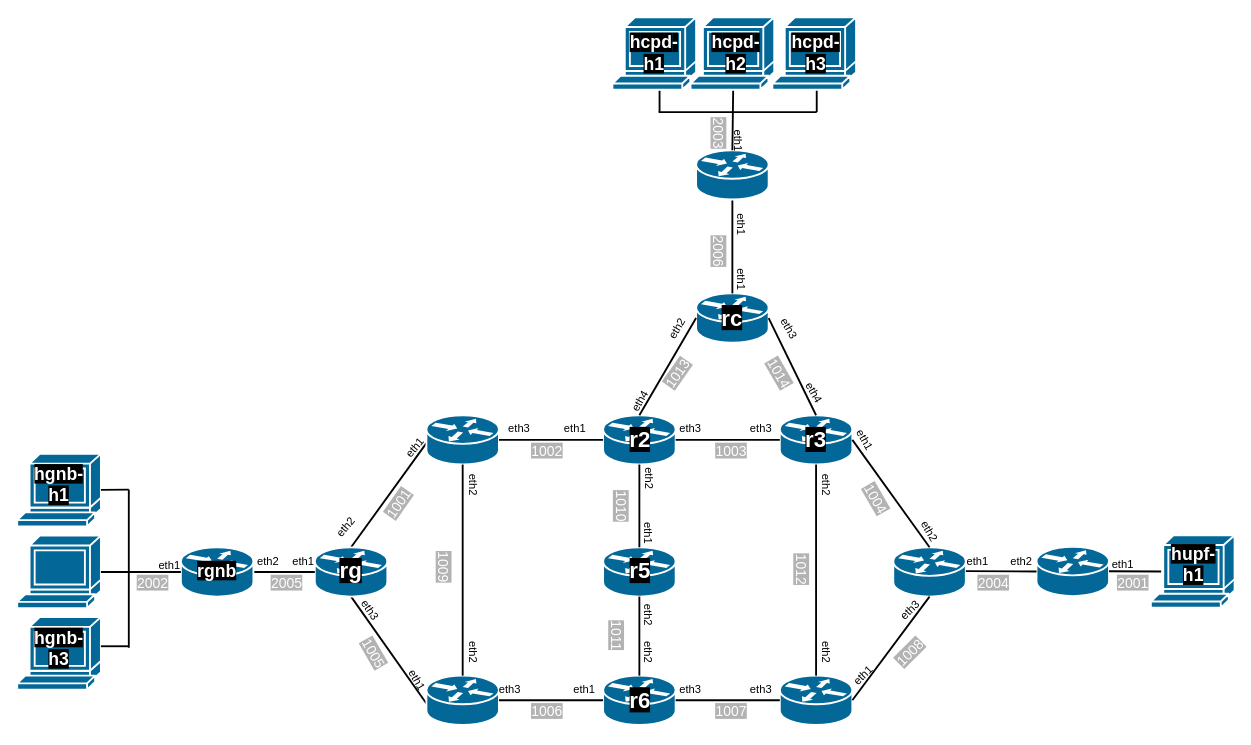
This 1251x745 diagram has some shape labels left out. Here are the shapes that lost their labels. From the top down, the centre of each, then its label:
At pixel 732 174: "rcpd".
At pixel 462 439: "r1".
At pixel 58 571: "hgnb-h2".
At pixel 929 571: "ru".
At pixel 1072 571: "rupf".
At pixel 462 699: "r4".
At pixel 815 699: "r7".
